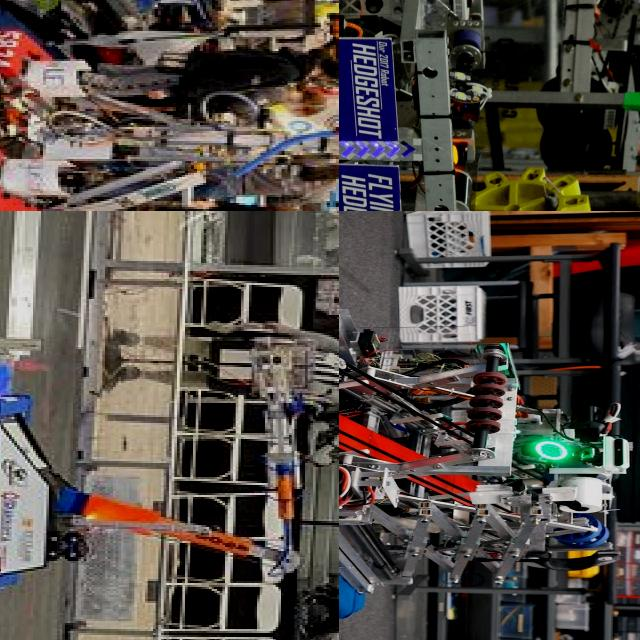FRC-Robots: (339, 211, 640, 636), (0, 315, 316, 631), (339, 0, 640, 211), (0, 2, 303, 211)
